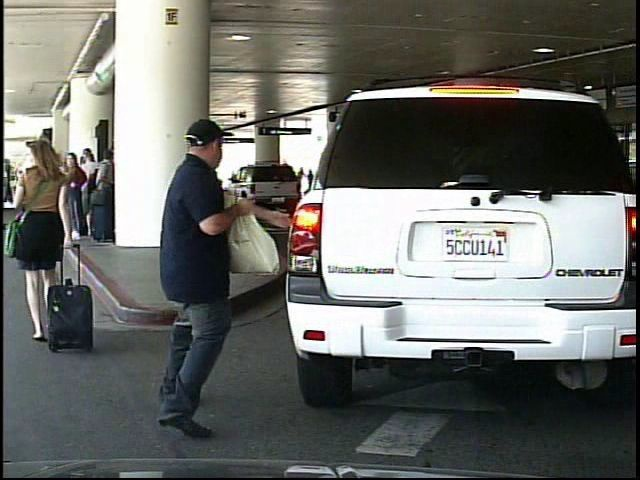person: (151, 104, 269, 432), (7, 133, 76, 354)
